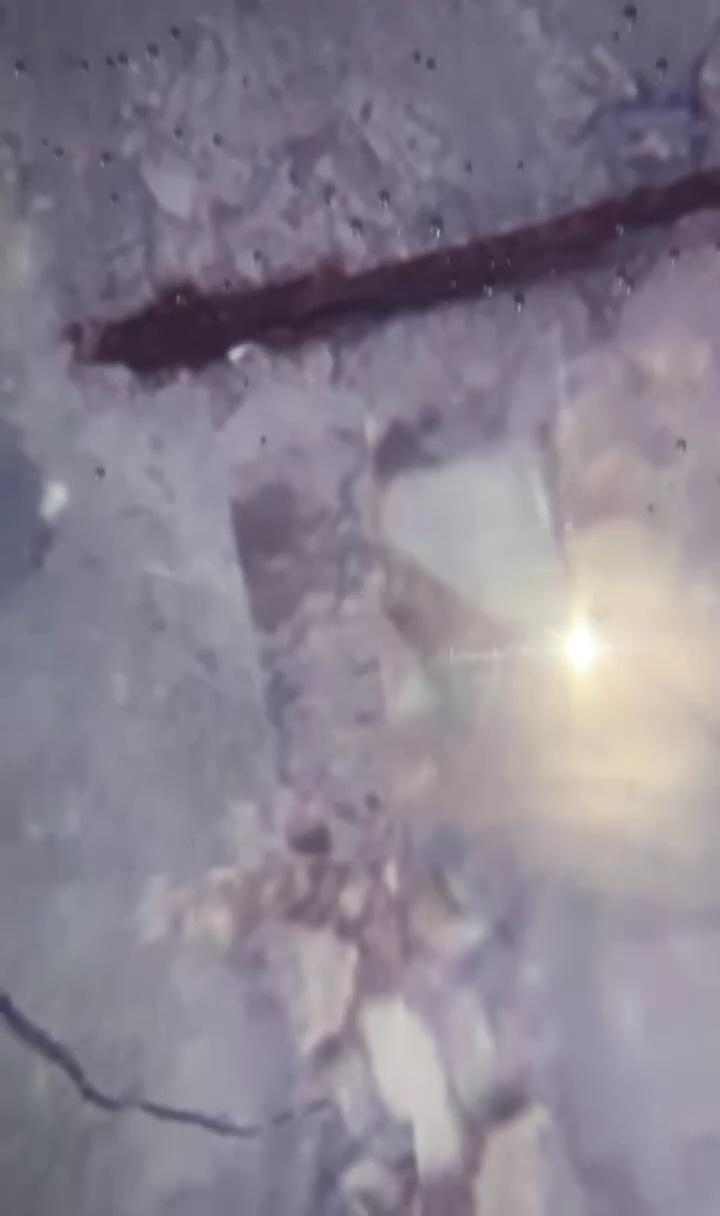Crack: (1, 988, 328, 1138)
Exposed reinforcement: (93, 167, 720, 378)
